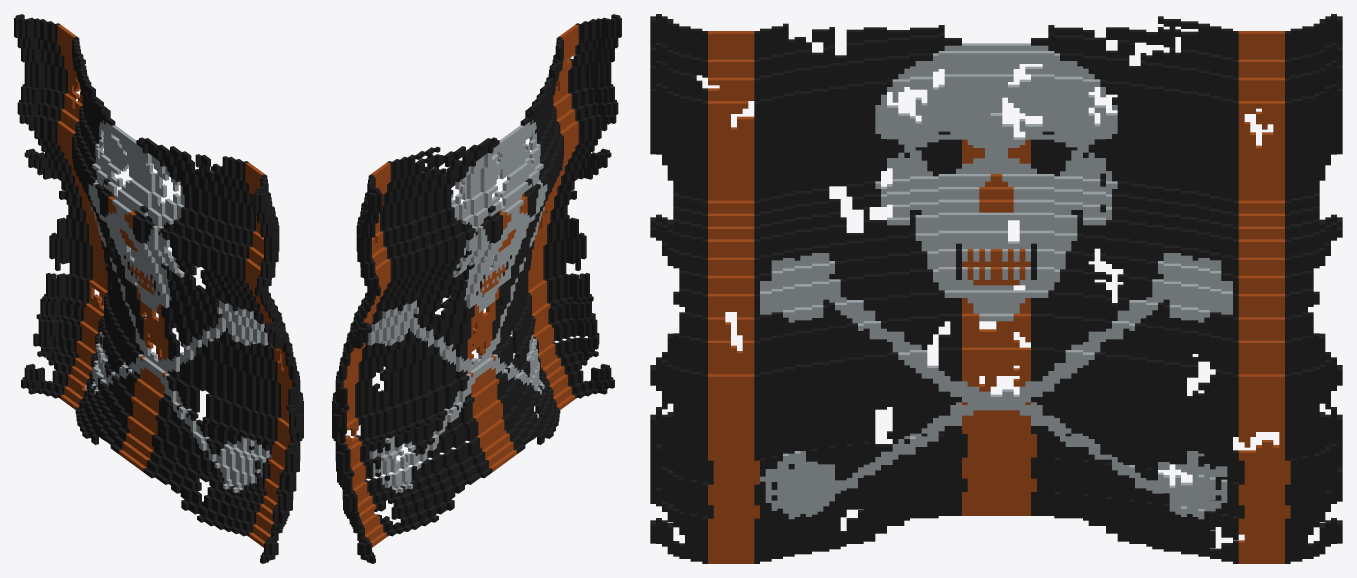
File: enemyship-2.obj
3 renders of one model, left to right at view 1: azimuth 30°, elevation 25°; view 2: azimuth 150°, elevation 25°; view 3: azimuth 270°, elevation 25°, orthographic. The views are drawn at different scales.
Bounding box in the file's own units: 2.2 × 10.1 × 12.
1 material, 1 textured.
